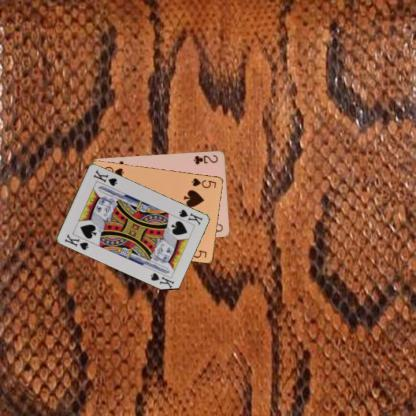2c: (191, 152, 219, 165)
5s: (189, 175, 218, 189)
Ks: (176, 206, 204, 226), (63, 232, 90, 251)
